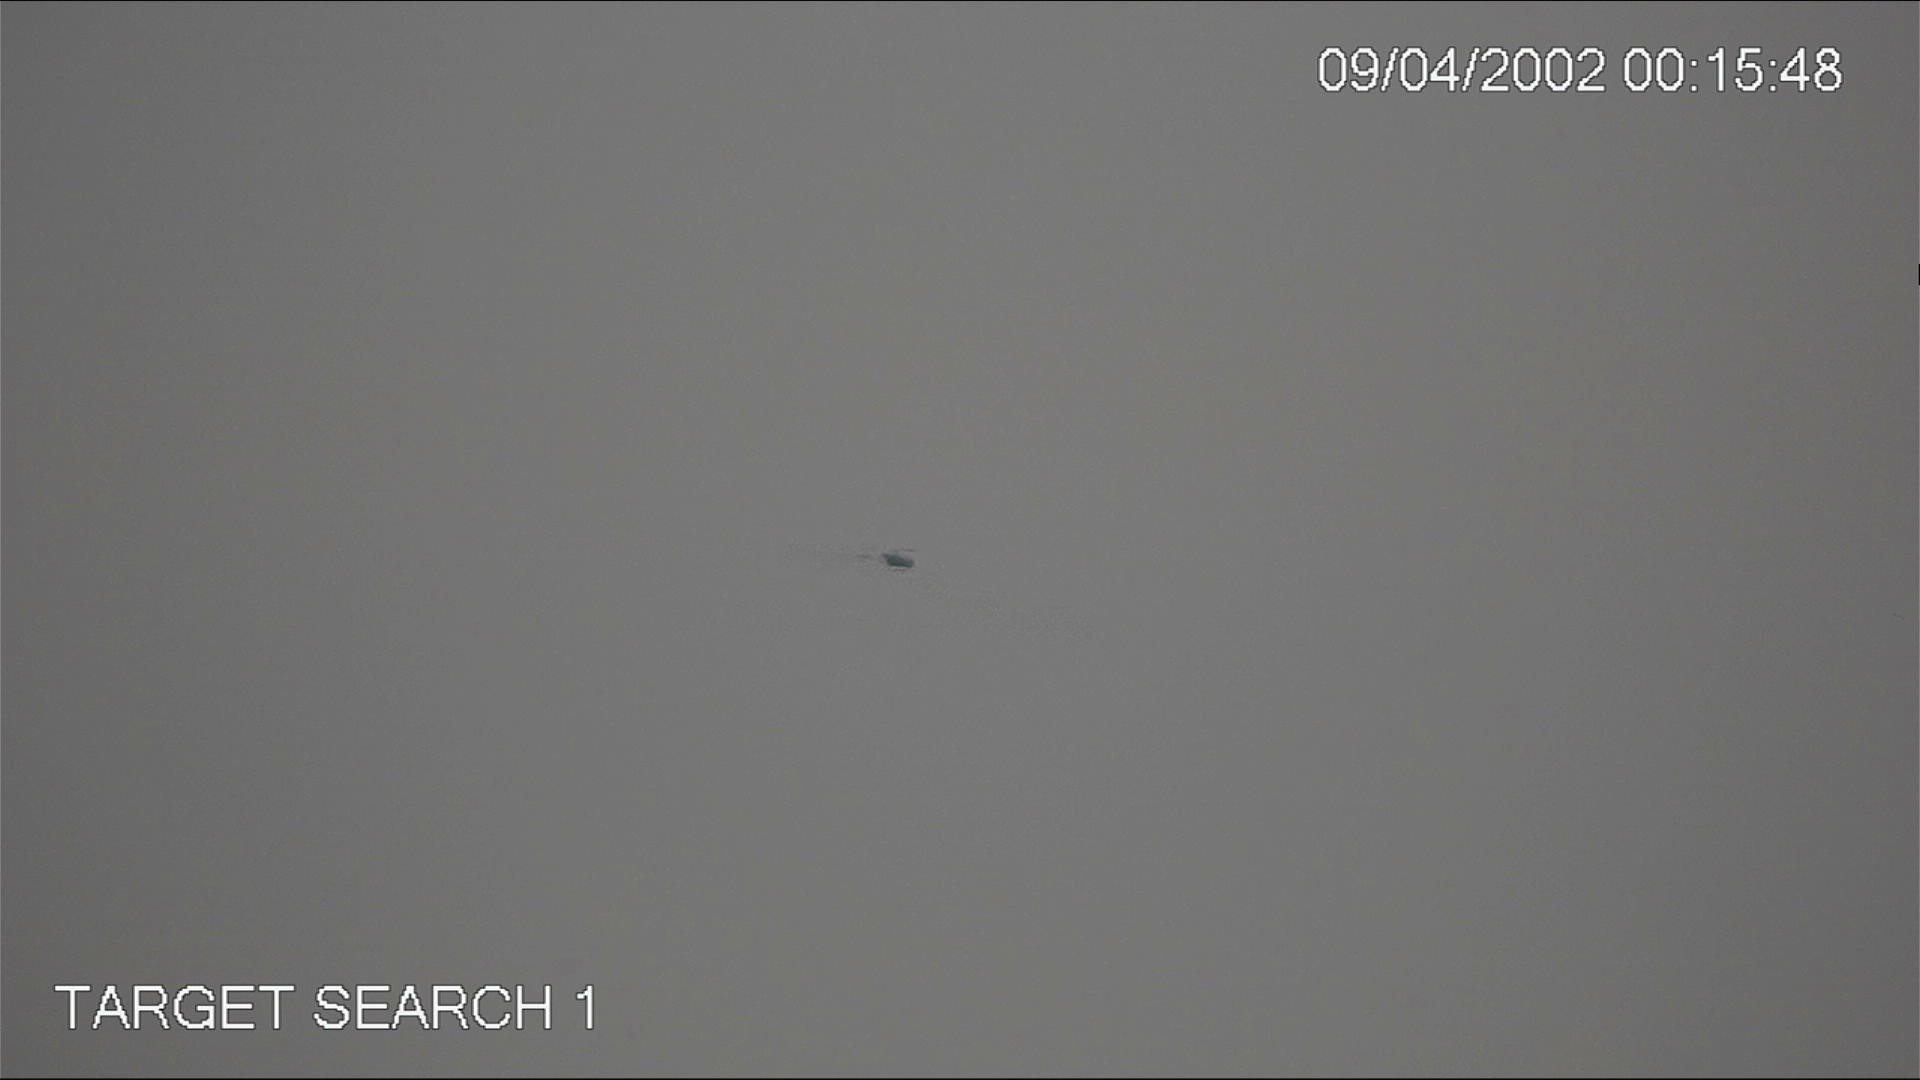SU_30: (856, 546, 920, 574)
